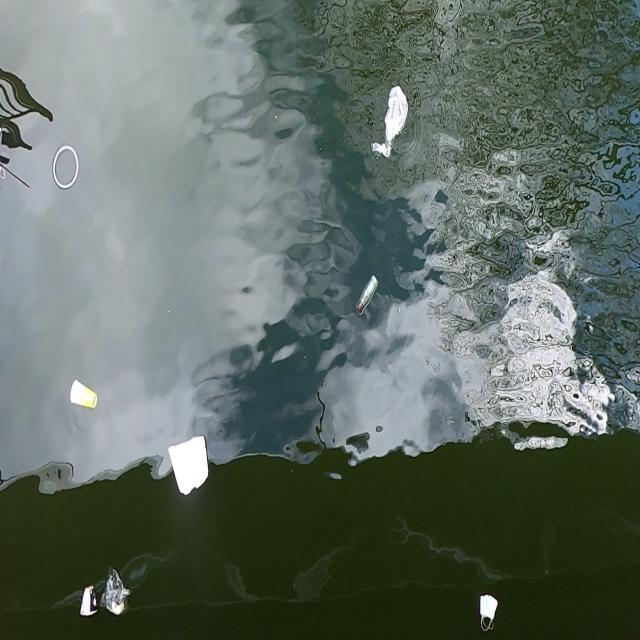Autre plastique: (165, 429, 215, 502)
Bouteille plastique: (355, 272, 383, 321)
Non plastique: (65, 374, 103, 416), (477, 592, 504, 636), (78, 581, 101, 625)
Sac plastique: (371, 78, 410, 158), (101, 566, 137, 623)
